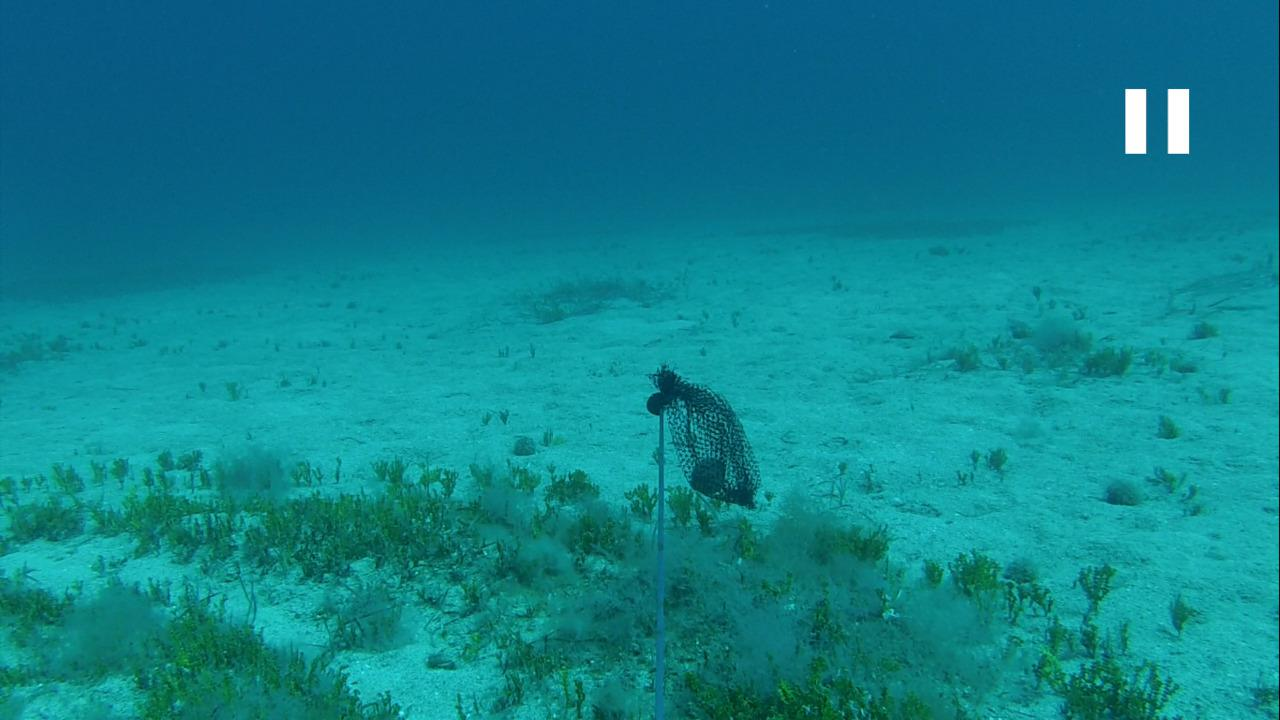dactylopterus: (1155, 260, 1277, 319)
